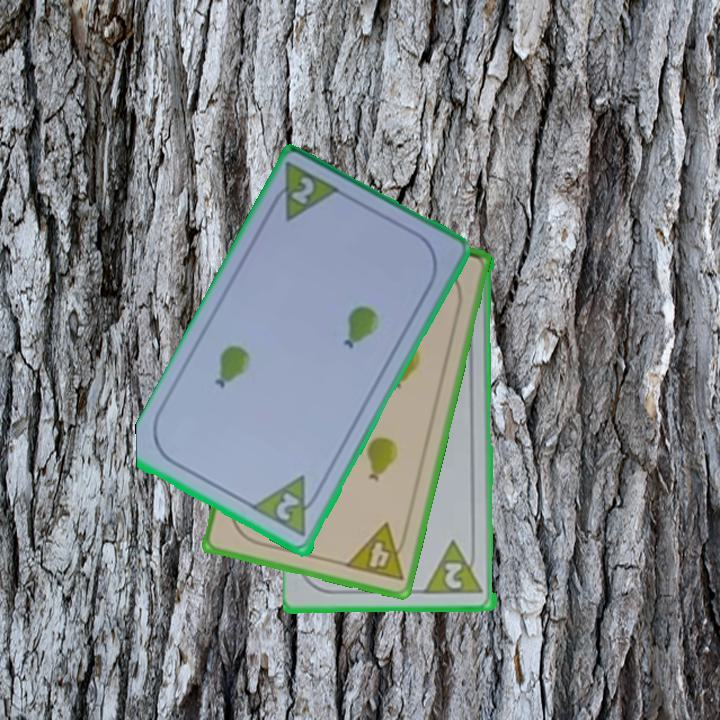2p: (264, 159, 345, 226), (272, 489, 304, 524), (441, 559, 466, 592)
4p: (341, 520, 412, 585)
